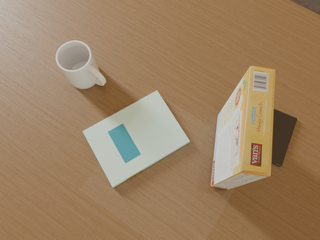book: (83, 91, 190, 187)
box: (211, 66, 275, 189)
cup: (56, 41, 106, 89)
phone: (272, 109, 297, 166)
